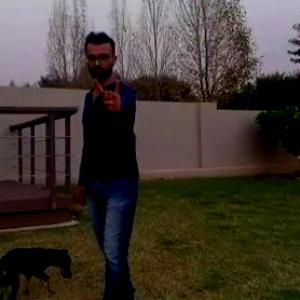takeoff-hand: (93, 67, 126, 118)
